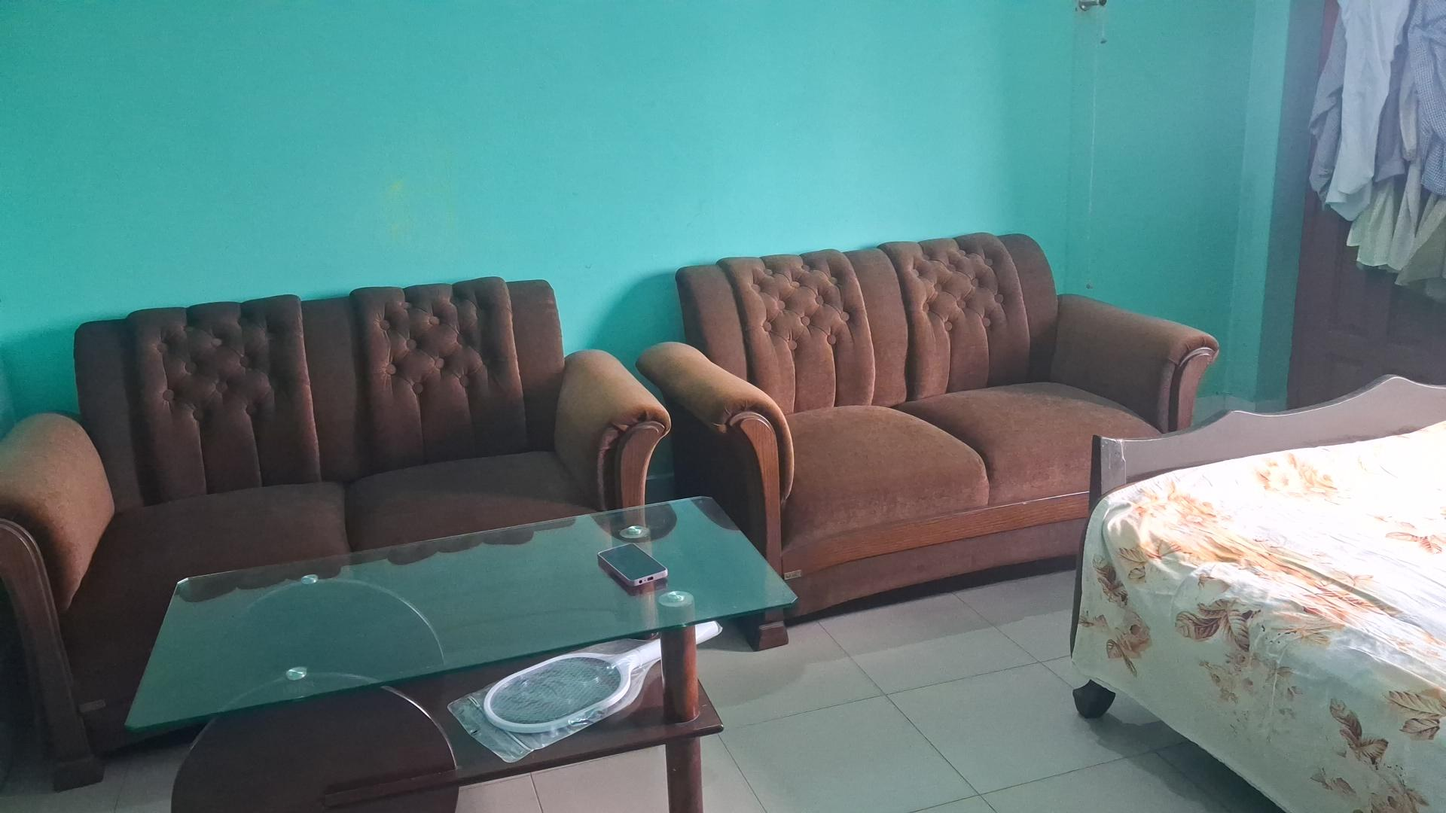Phone: (592, 535, 667, 595)
Table: (144, 526, 805, 792)
